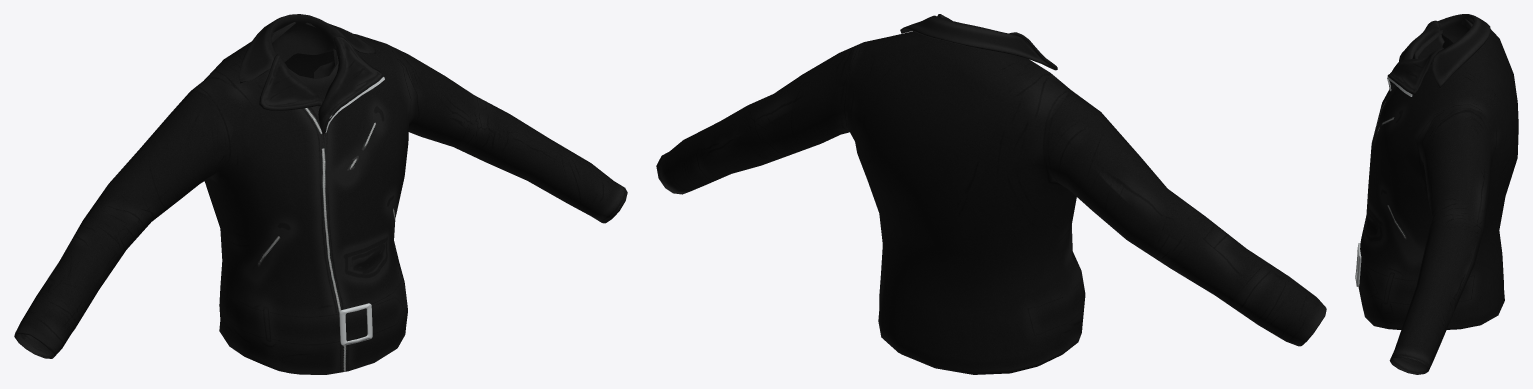
File: clothing_practice.glb
3 renders of one model, left to right at view 1: azimuth 30°, elevation 25°; view 2: azimuth 150°, elevation 25°; view 3: azimuth 270°, elevation 25°, orthographic. The views are drawn at different scales.
Visible parts, largest first — view 1: Jacket_Main_Lo, Collar_Lo, Collar_R_Lo, Collar_L_Lo, Buckle_Lo; view 2: Jacket_Main_Lo, Collar_Lo; view 3: Jacket_Main_Lo, Collar_Lo, Collar_R_Lo, Collar_L_Lo, Buckle_Lo.
Boxes of the visible parts, left/top/right/bottom form: Jacket_Main_Lo: left=14, top=22, right=627, bottom=374; Collar_Lo: left=239, top=14, right=376, bottom=83; Collar_R_Lo: left=314, top=35, right=382, bottom=134; Collar_L_Lo: left=259, top=54, right=322, bottom=110; Buckle_Lo: left=339, top=303, right=372, bottom=345; Jacket_Main_Lo: left=656, top=31, right=1326, bottom=374; Collar_Lo: left=900, top=15, right=1049, bottom=66; Jacket_Main_Lo: left=1358, top=18, right=1518, bottom=374; Collar_Lo: left=1432, top=14, right=1490, bottom=88; Collar_R_Lo: left=1387, top=48, right=1443, bottom=95; Collar_L_Lo: left=1399, top=20, right=1444, bottom=61; Buckle_Lo: left=1355, top=243, right=1361, bottom=286.
Bounding box in the file's own units: 2 × 0.9829 × 0.5088.
1 material, 1 textured.
